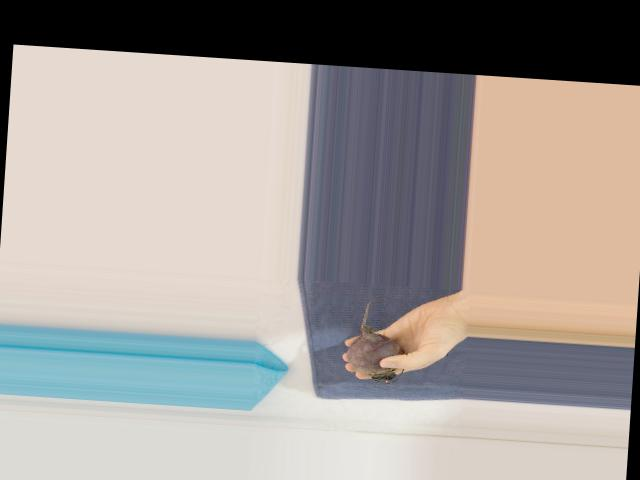beet: (345, 298, 408, 384)
